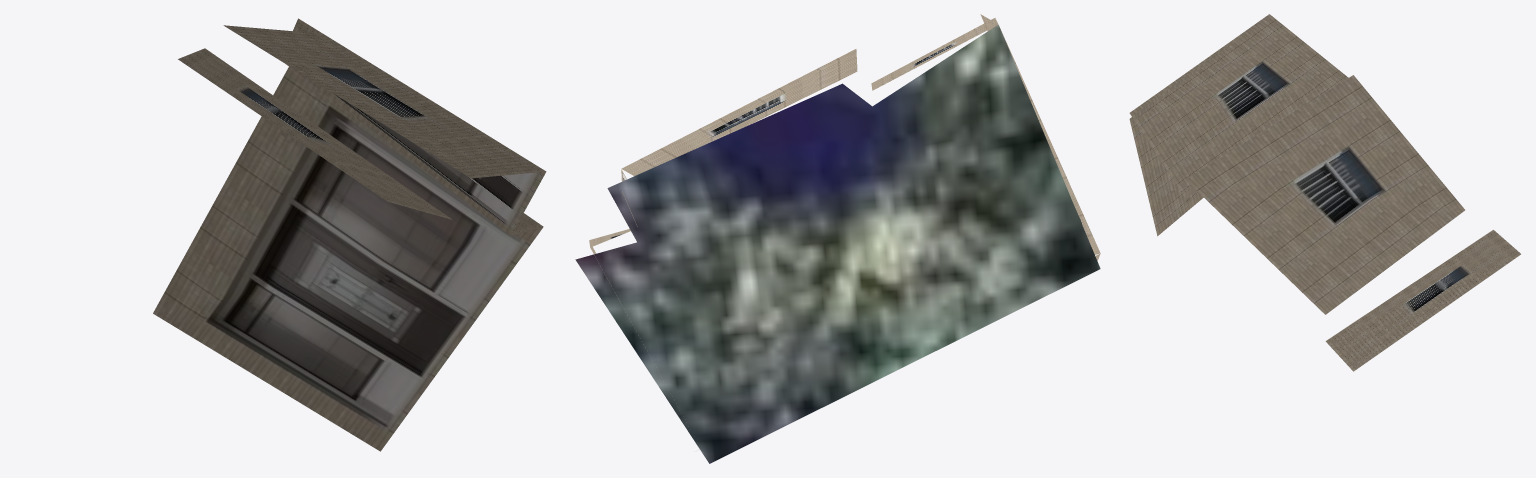
File: tile_LOD4_r10_c12.glb
3 views of the same model, side by side, from view 1: azimuth 30°, elevation 25°; view 2: azimuth 150°, elevation 25°; view 3: azimuth 270°, elevation 25° (orthographic). The views are drawn at different scales.
Size of the model in its own units: 8 by 7 by 7.
4 materials, 4 textured.
